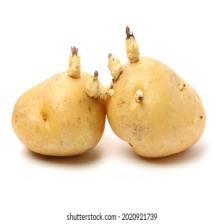Sprouted potato: (101, 32, 208, 162), (11, 42, 125, 158)
